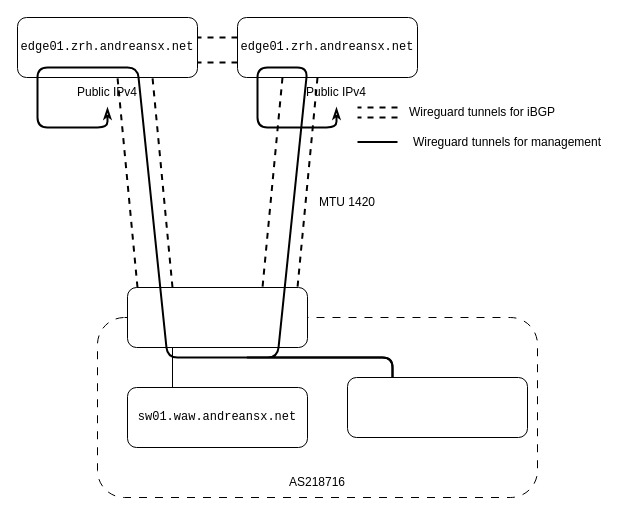
This 625x515 diagram has some shape labels left out. Here are the shapes that lost their labels. From the top down, the centre of each, then its label:
At point (217, 317): "core01.waw.andreansx.net".
At point (437, 407): "mgmt01.waw.andreansx.net".
